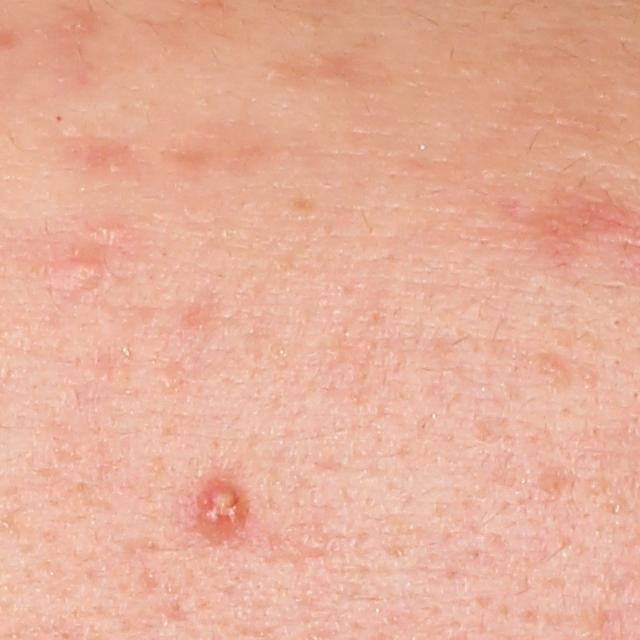comedo: (610, 315, 624, 331)
pustule: (199, 480, 244, 534)
